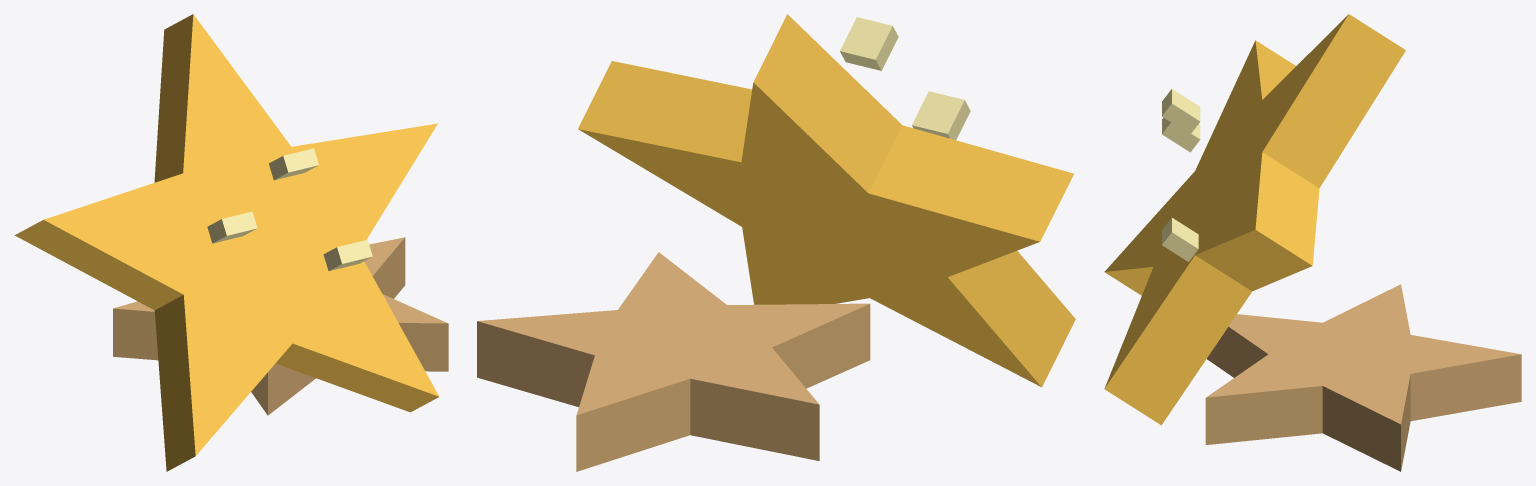
File: CatCafe_Item_StarTreat.glb
3 renders of one model, left to right at view 1: azimuth 30°, elevation 25°; view 2: azimuth 150°, elevation 25°; view 3: azimuth 270°, elevation 25°, orthographic. The views are drawn at different scales.
Parts seen in each view (by area): view 1: CatCafe_Item_StarTreat; view 2: CatCafe_Item_StarTreat; view 3: CatCafe_Item_StarTreat.
Part boxes in pixels (<box>): CatCafe_Item_StarTreat: <box>14,14,448,471</box>; CatCafe_Item_StarTreat: <box>477,14,1075,471</box>; CatCafe_Item_StarTreat: <box>1104,14,1521,471</box>.
Bounding box in the file's own units: 0.567 × 0.446 × 0.4781.
1 material, 1 textured.
